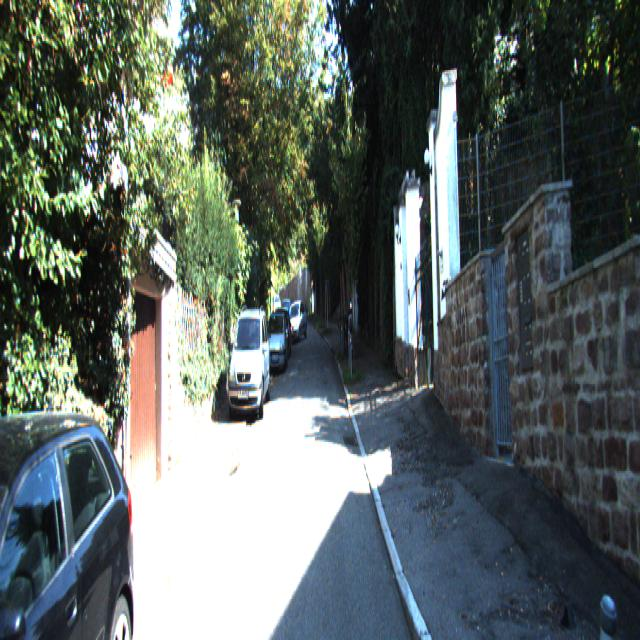Car: (0, 388, 141, 638), (227, 305, 271, 425), (265, 320, 288, 387), (286, 300, 307, 345)
